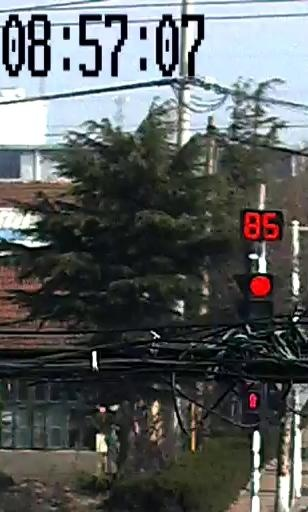red: (246, 272, 272, 296)
redpeople: (246, 387, 262, 413)
redtime: (245, 213, 283, 240)
